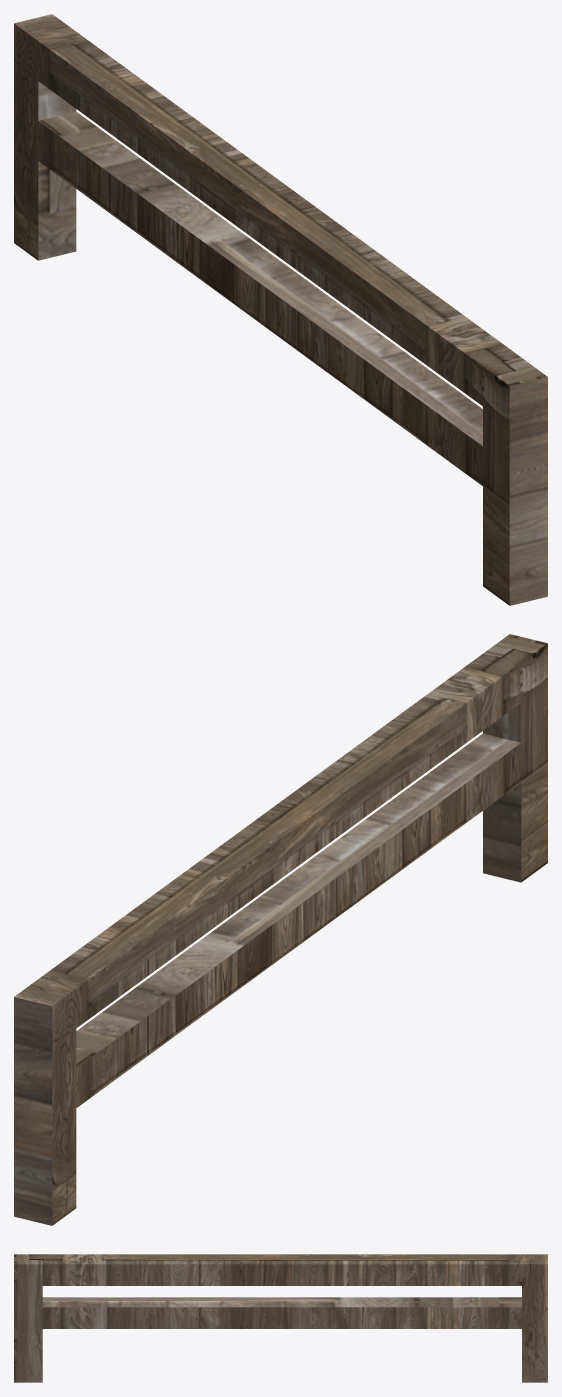
The model's file is SM_Wall_Wood.fbx.
The picture shows the model from 3 angles, top to bottom: view 1: azimuth 30°, elevation 25°; view 2: azimuth 150°, elevation 25°; view 3: azimuth 270°, elevation 25°; orthographic projection. The views are drawn at different scales.
Visible parts, largest first — view 1: pCube7; view 2: pCube7; view 3: pCube7.
Part boxes in pixels (x1=…): pCube7: x1=14, y1=14, x2=547, y2=605; pCube7: x1=14, y1=634, x2=547, y2=1225; pCube7: x1=14, y1=1254, x2=547, y2=1382.
Bounding box in the file's own units: 4 × 22 × 90.
Materials: 1 (1 with a texture image).
